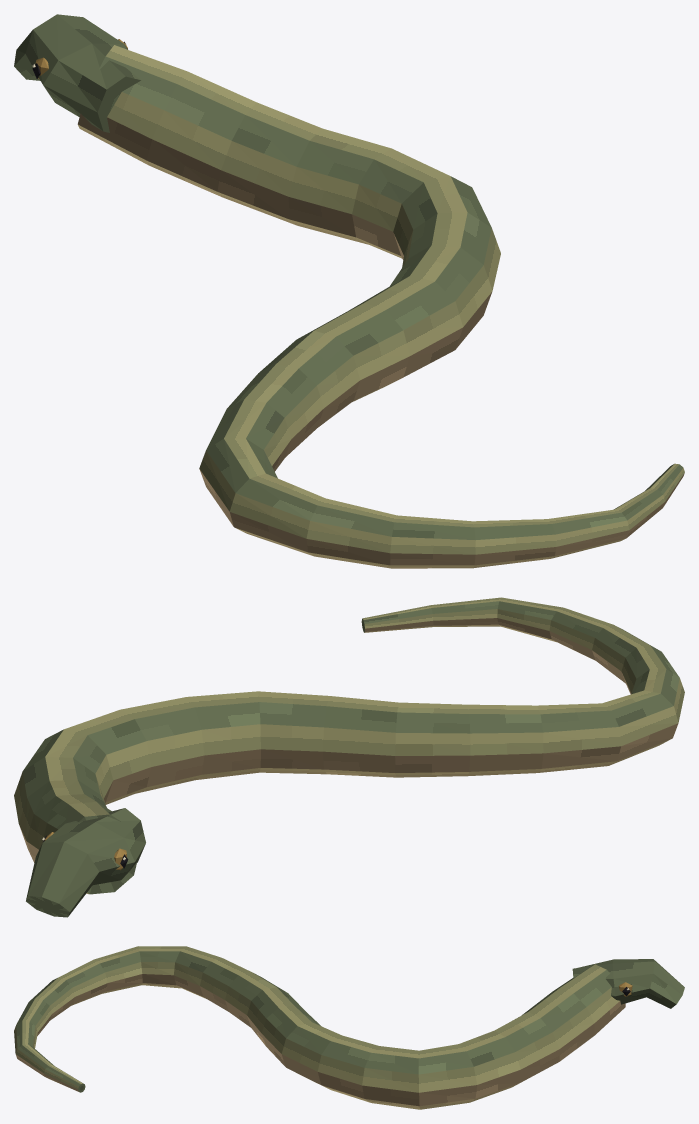
File: mon_gartersnake.glb
3 views of the same model, one above another, from view 1: azimuth 30°, elevation 25°; view 2: azimuth 150°, elevation 25°; view 3: azimuth 270°, elevation 25° (orthographic). The views are drawn at different scales.
Parts seen in each view (by area): view 1: closed_body; view 2: closed_body; view 3: closed_body.
Boxes of the visible parts, x1,y1,x2,y2 form: closed_body: [14, 14, 684, 568]; closed_body: [14, 597, 684, 917]; closed_body: [14, 946, 684, 1109].
Size of the model in its own units: 0.2057 by 0.0614 by 0.4112.
Materials: 1 (1 with a texture image).
